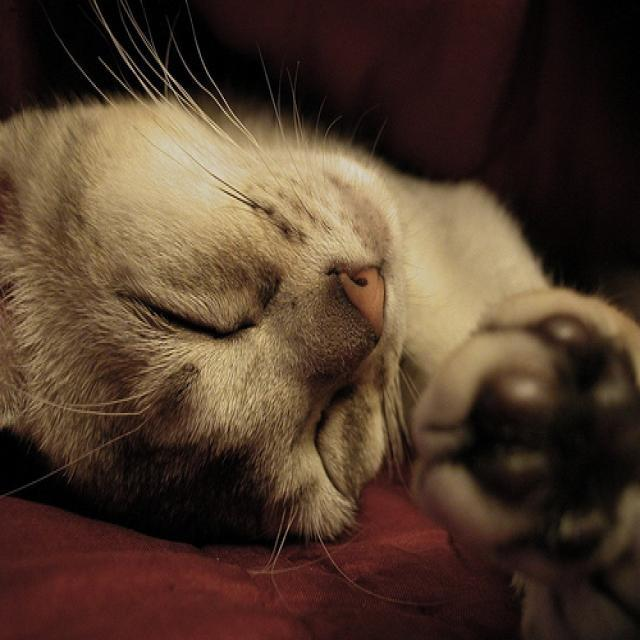Abyssinian: (0, 57, 424, 591)
